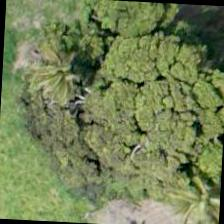Kelapa_Sawit: (16, 22, 110, 117)
